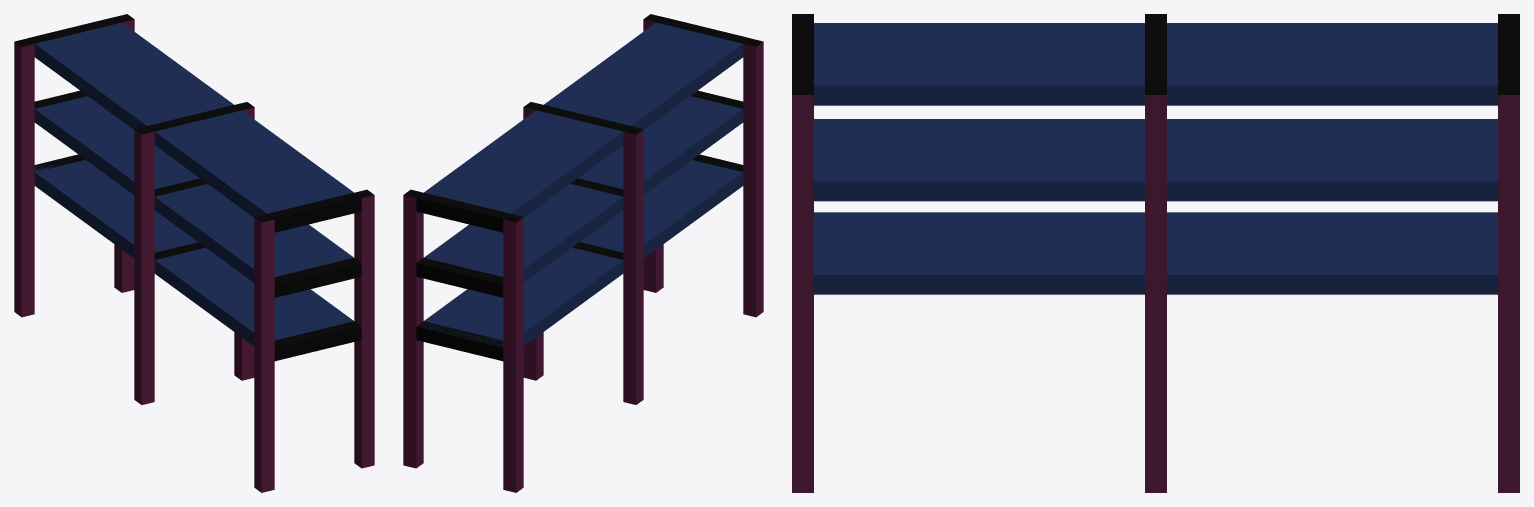
The model's file is staticMesh_prop_Rack_UV.fbx.
3 views of the same model, side by side, from view 1: azimuth 30°, elevation 25°; view 2: azimuth 150°, elevation 25°; view 3: azimuth 270°, elevation 25° (orthographic). The views are drawn at different scales.
Parts seen in each view (by area): view 1: pCube14; view 2: pCube14; view 3: pCube14.
Part boxes in pixels (x1,y1,x2,y2): pCube14: (14, 14, 374, 492); pCube14: (403, 14, 763, 492); pCube14: (792, 14, 1519, 492).
Size of the model in its own units: 190 by 434 by 720.
